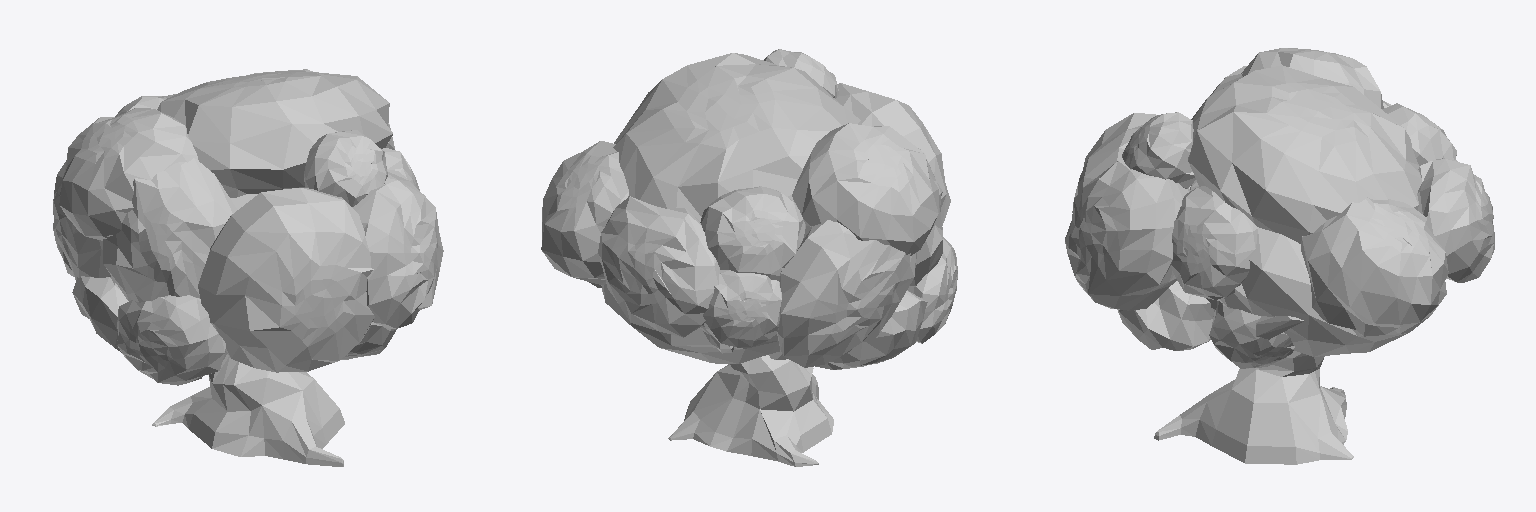
File: bush_1.obj
The picture shows the model from 3 angles: view 1: azimuth 30°, elevation 25°; view 2: azimuth 150°, elevation 25°; view 3: azimuth 270°, elevation 25°; orthographic projection.
Parts seen in each view (by area): view 1: bush_1_crown_roads_material, bush_1_trunk_roads_material; view 2: bush_1_crown_roads_material, bush_1_trunk_roads_material; view 3: bush_1_crown_roads_material, bush_1_trunk_roads_material.
Part boxes in pixels (bbox=[...]): bush_1_crown_roads_material: bbox=[53, 69, 443, 385]; bush_1_trunk_roads_material: bbox=[152, 355, 344, 466]; bush_1_crown_roads_material: bbox=[541, 49, 957, 369]; bush_1_trunk_roads_material: bbox=[668, 325, 833, 466]; bush_1_crown_roads_material: bbox=[1065, 48, 1494, 368]; bush_1_trunk_roads_material: bbox=[1154, 316, 1353, 464].
Size of the model in its own units: 2 by 1.9 by 2.15.